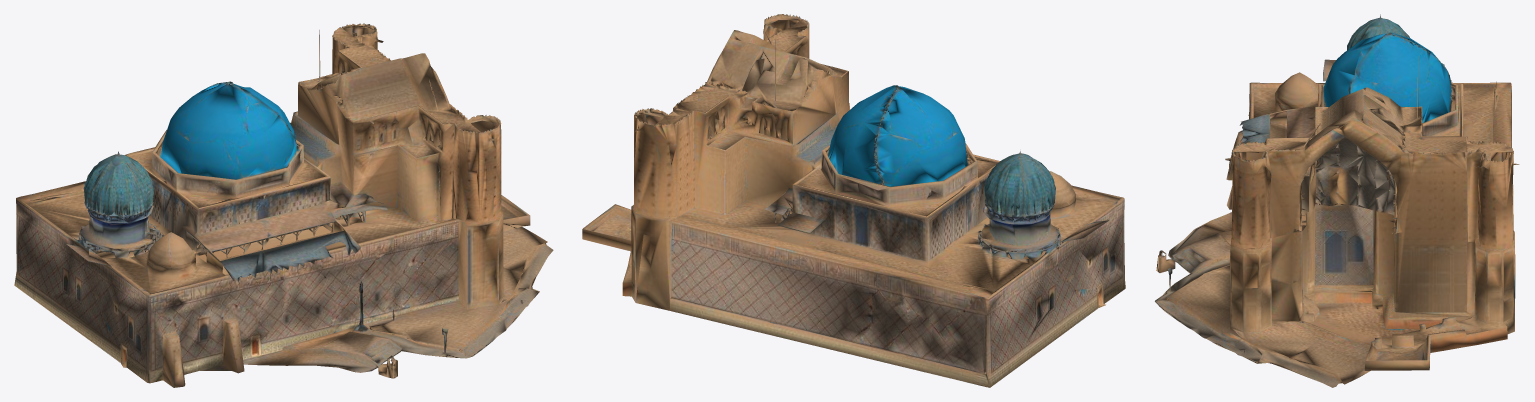
Rendered from yasawi.glb.
The picture shows the model from 3 angles, left to right: view 1: azimuth 30°, elevation 25°; view 2: azimuth 150°, elevation 25°; view 3: azimuth 270°, elevation 25°; orthographic projection. The views are drawn at different scales.
Size of the model in its own units: 1.89 by 0.9788 by 1.3.
Materials: 1 (1 with a texture image).
